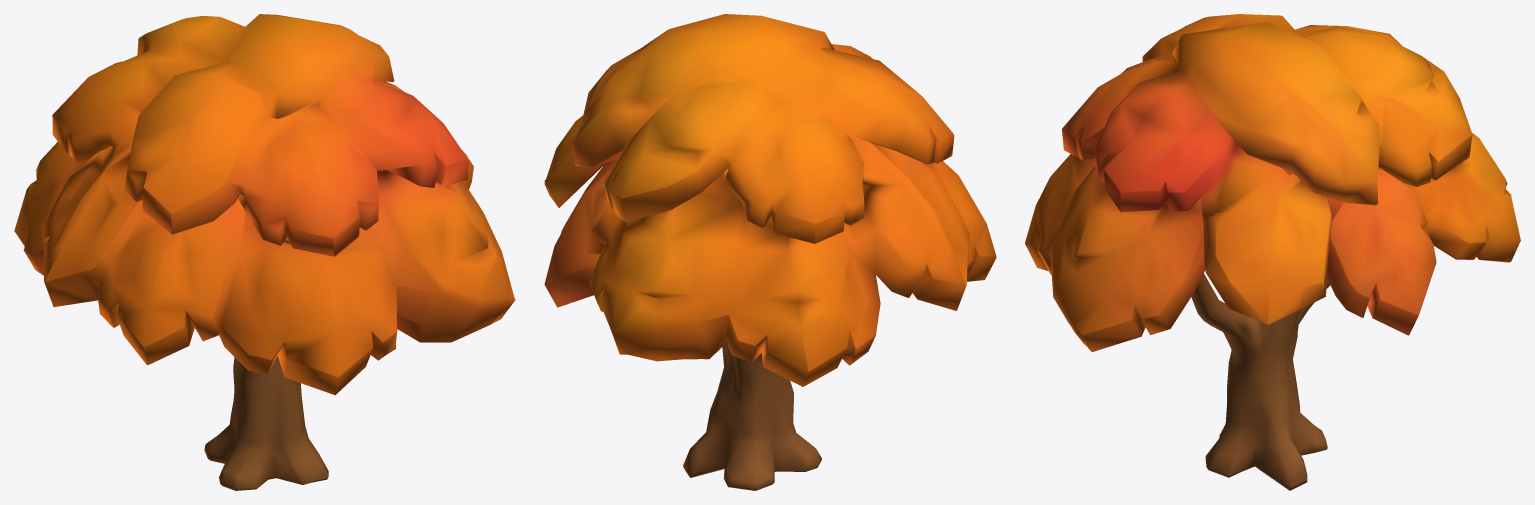
File: tripo_raw.glb
The picture shows the model from 3 angles, left to right: view 1: azimuth 30°, elevation 25°; view 2: azimuth 150°, elevation 25°; view 3: azimuth 270°, elevation 25°; orthographic projection.
Parts seen in each view (by area): view 1: tripo_node_23c465d8-7cf1-4052-851b-4487f1adf6bf; view 2: tripo_node_23c465d8-7cf1-4052-851b-4487f1adf6bf; view 3: tripo_node_23c465d8-7cf1-4052-851b-4487f1adf6bf.
Part boxes in pixels (x1,y1,x2,y2): tripo_node_23c465d8-7cf1-4052-851b-4487f1adf6bf: [14, 14, 515, 490]; tripo_node_23c465d8-7cf1-4052-851b-4487f1adf6bf: [544, 14, 996, 490]; tripo_node_23c465d8-7cf1-4052-851b-4487f1adf6bf: [1025, 14, 1520, 490].
Size of the model in its own units: 0.9765 by 0.9687 by 1.
Materials: 1 (1 with a texture image).
